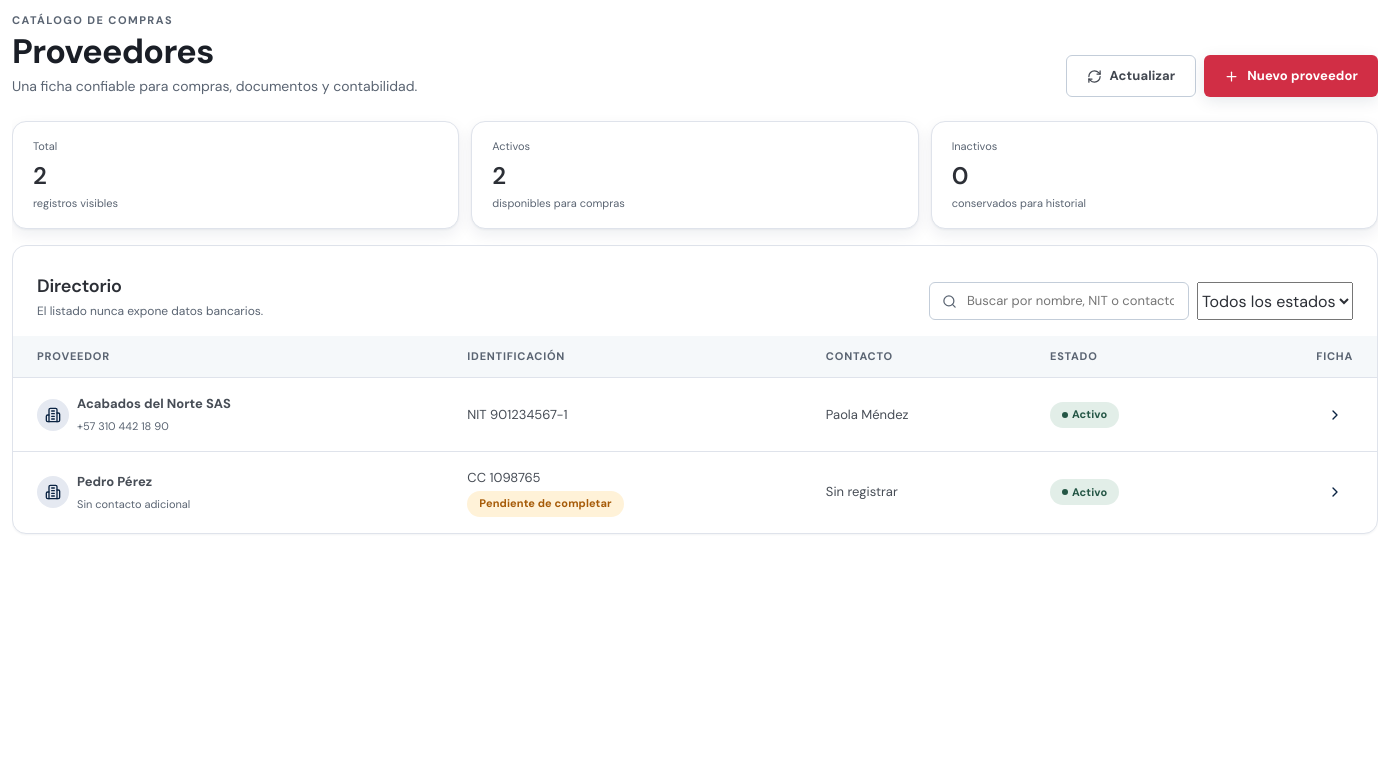
Test case: SuppliersScreen › shows identification (type + number) and the pending mark in the directory
expect the text "Pedro Pérez" is shown: met, box left=77, top=473, right=152, bottom=490
expect the column heading "Identificación" is shown: met, box left=447, top=336, right=806, bottom=378
La búsqueda también encuentra por identificación.
Type "1098765" into the field named "Buscar proveedores" at (1070,301), box left=965, top=290, right=1176, bottom=312
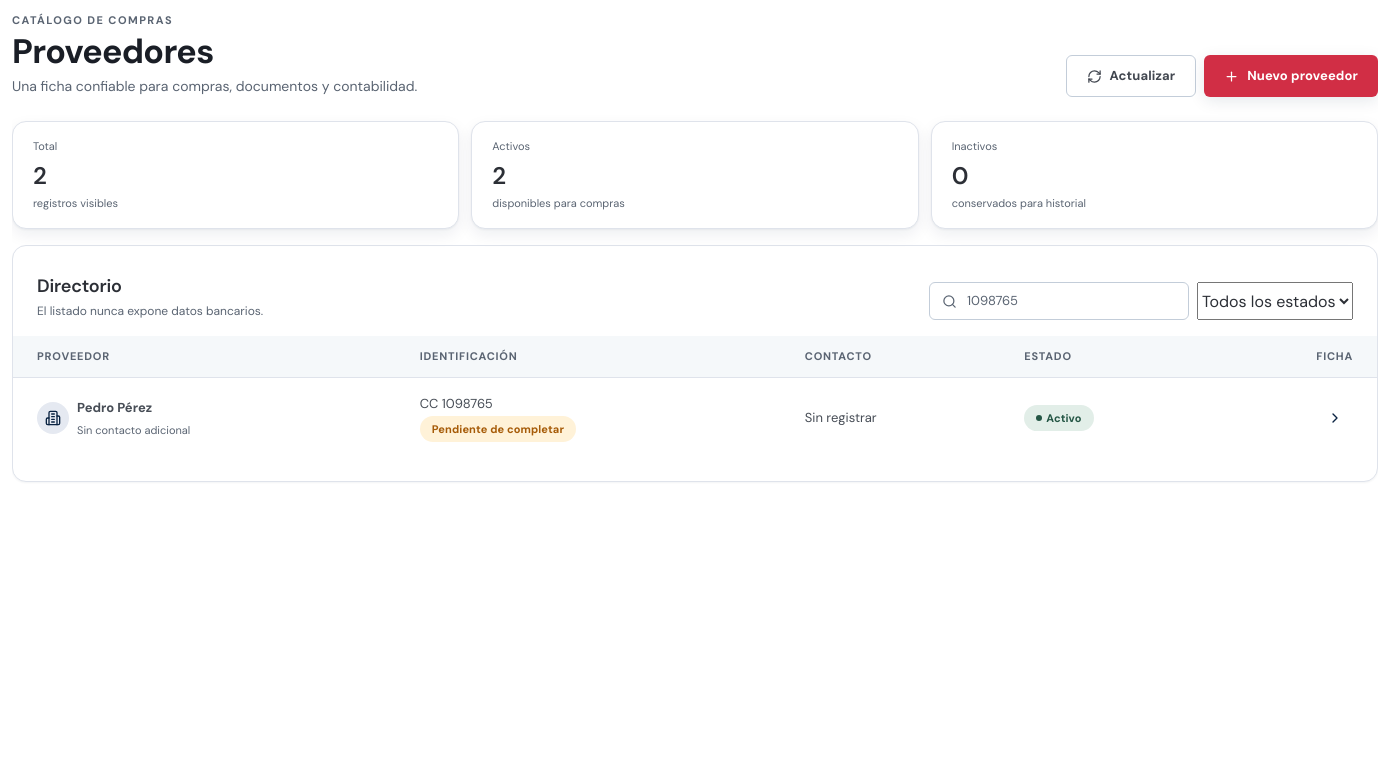
expect the text "Pedro Pérez" is shown: met, box left=77, top=399, right=152, bottom=416
expect the text "Acabados del Norte SAS" is gone: met
